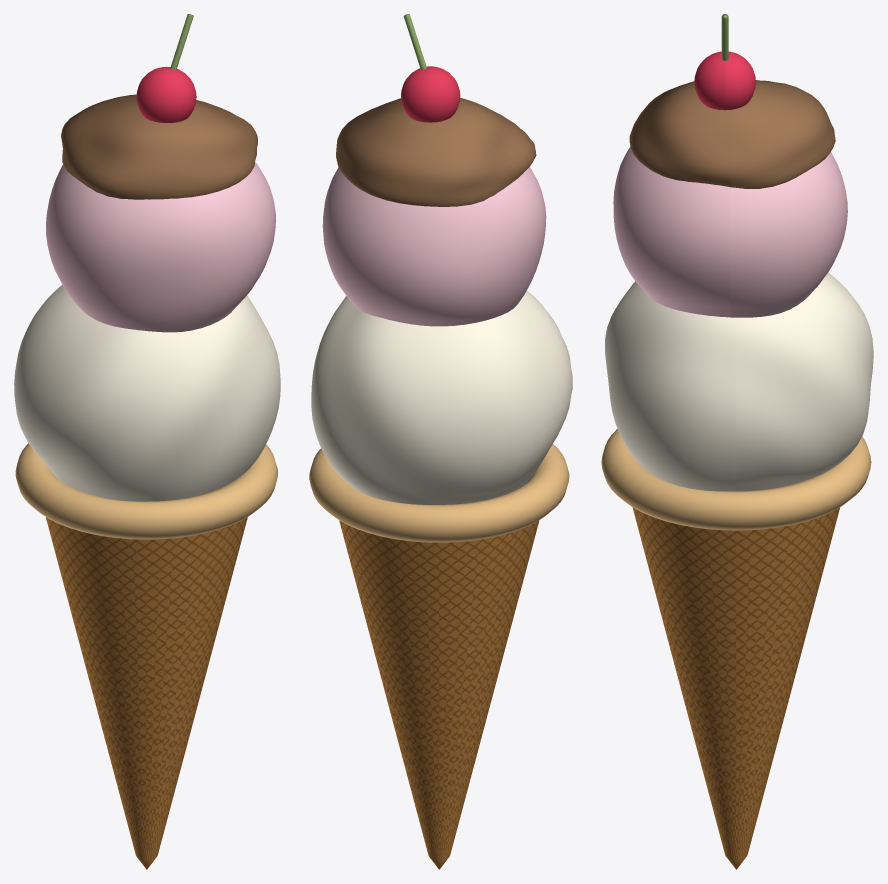
The model's file is icecream.glb.
The picture shows the model from 3 angles, left to right: view 1: azimuth 30°, elevation 25°; view 2: azimuth 150°, elevation 25°; view 3: azimuth 270°, elevation 25°; orthographic projection. The views are drawn at different scales.
Size of the model in its own units: 0.4811 by 1.71 by 0.4839.
7 materials, 1 textured.
